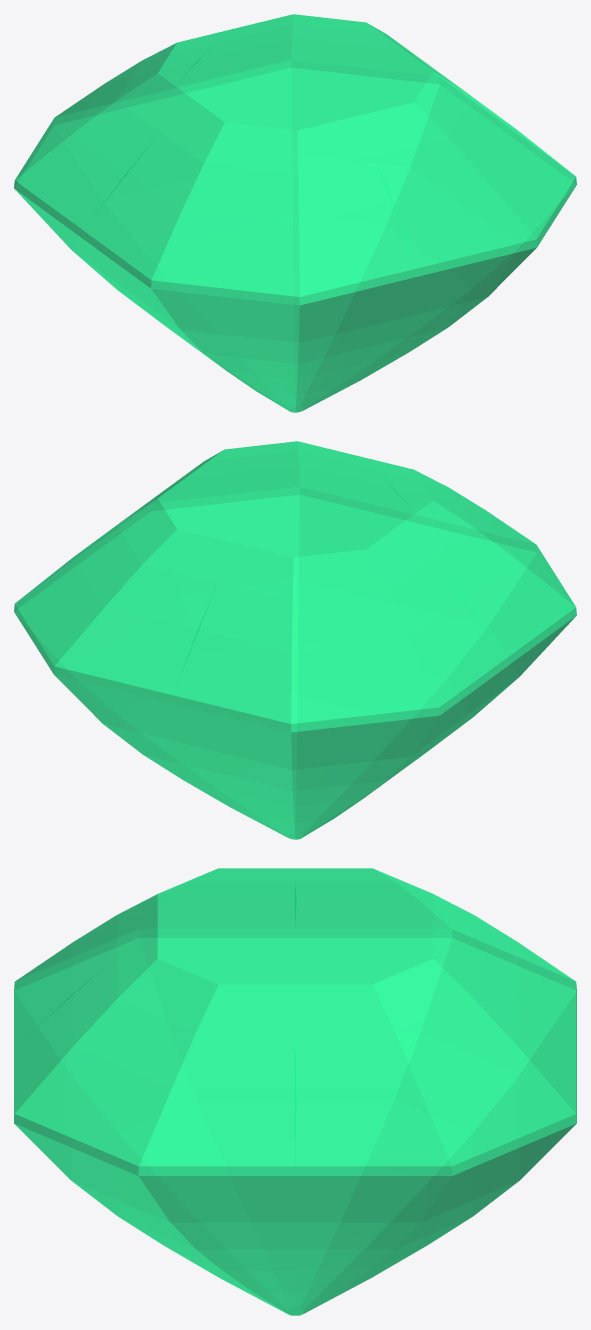
Rendered from assher peridot.glb.
The picture shows the model from 3 angles, top to bottom: view 1: azimuth 30°, elevation 25°; view 2: azimuth 150°, elevation 25°; view 3: azimuth 270°, elevation 25°; orthographic projection. The views are drawn at different scales.
Parts seen in each view (by area): view 1: Asscher.001; view 2: Asscher.001; view 3: Asscher.001.
Part boxes in pixels (x1,y1,x2,y2): Asscher.001: [14, 14, 576, 412]; Asscher.001: [14, 441, 576, 839]; Asscher.001: [14, 868, 576, 1315].
Bounding box in the file's own units: 1.5 × 1.14 × 1.5.
